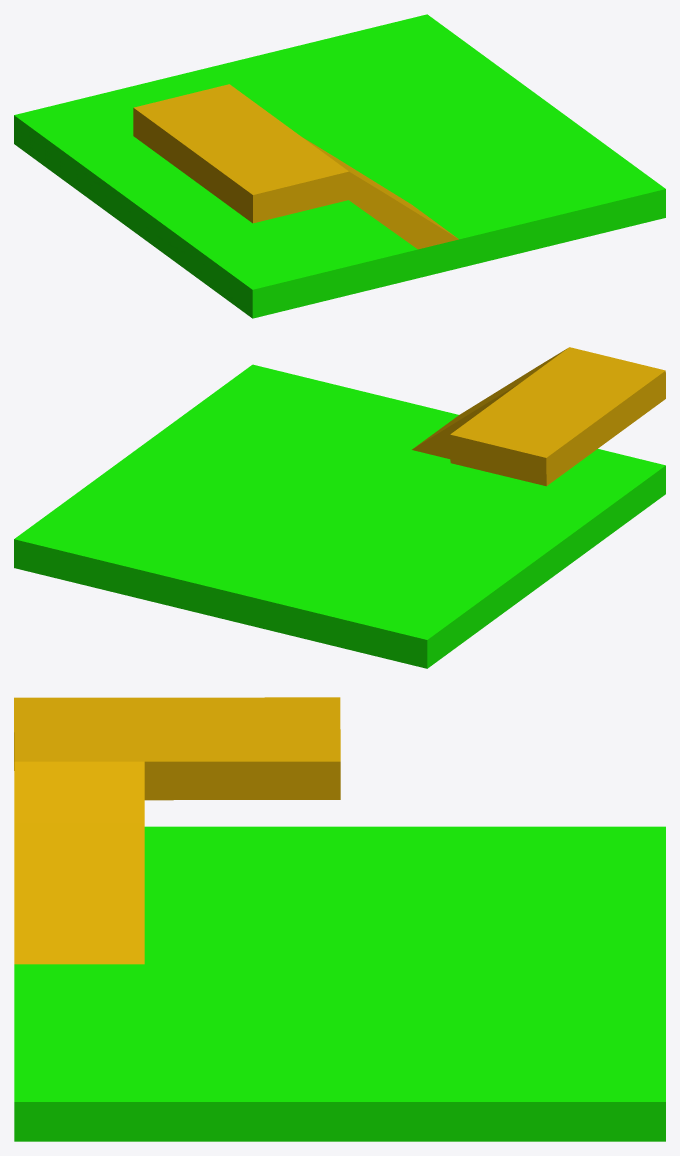
Rendered from testMap_1_2.glb.
The picture shows the model from 3 angles, top to bottom: view 1: azimuth 30°, elevation 25°; view 2: azimuth 150°, elevation 25°; view 3: azimuth 270°, elevation 25°; orthographic projection. The views are drawn at different scales.
Parts seen in each view (by area): view 1: Mesh_0; view 2: Mesh_0; view 3: Mesh_0.
Boxes of the visible parts, x1,y1,x2,y2 form: Mesh_0: (14, 14, 665, 318); Mesh_0: (14, 347, 665, 668); Mesh_0: (14, 697, 665, 1141).
Bounding box in the file's own units: 15 × 4.29 × 15.01.
